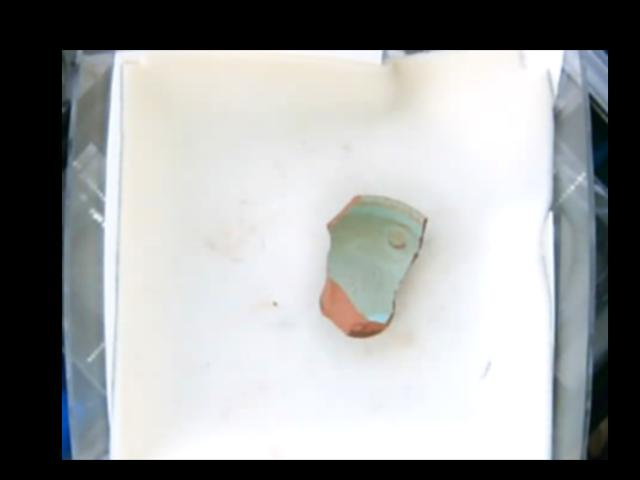China: (323, 194, 423, 336)
